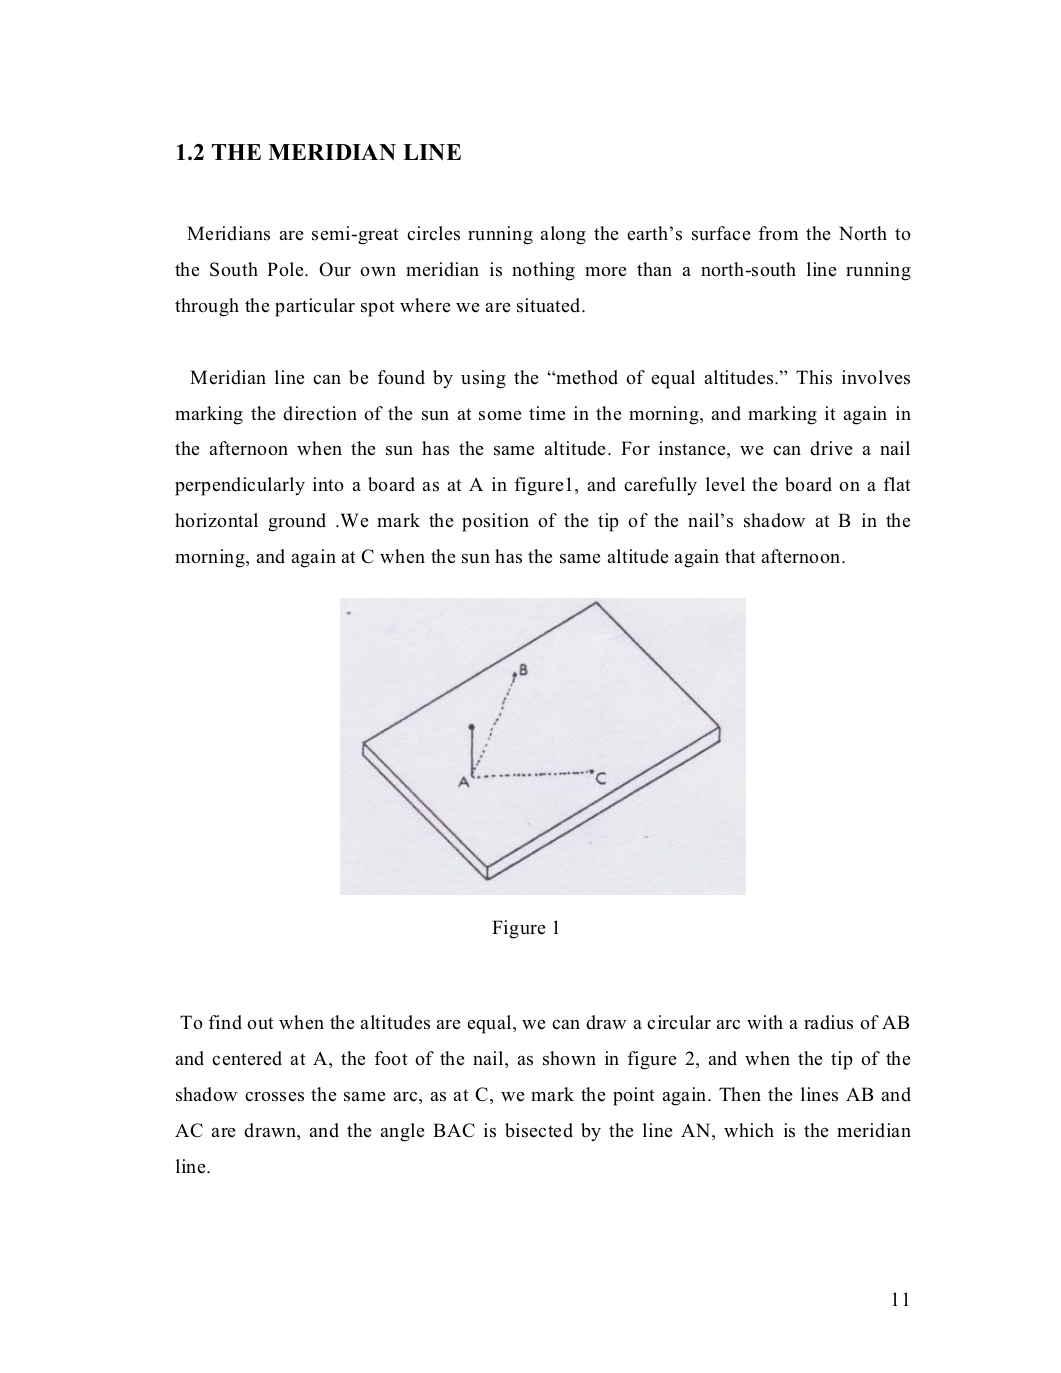figure: (340, 597, 744, 895)
